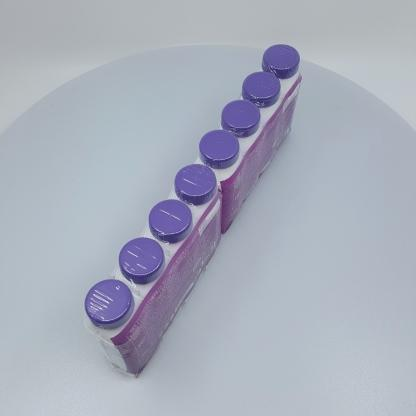-------------400ML: (84, 163, 222, 378), (192, 44, 302, 234)
